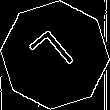L_SE: (27, 25, 83, 85)
